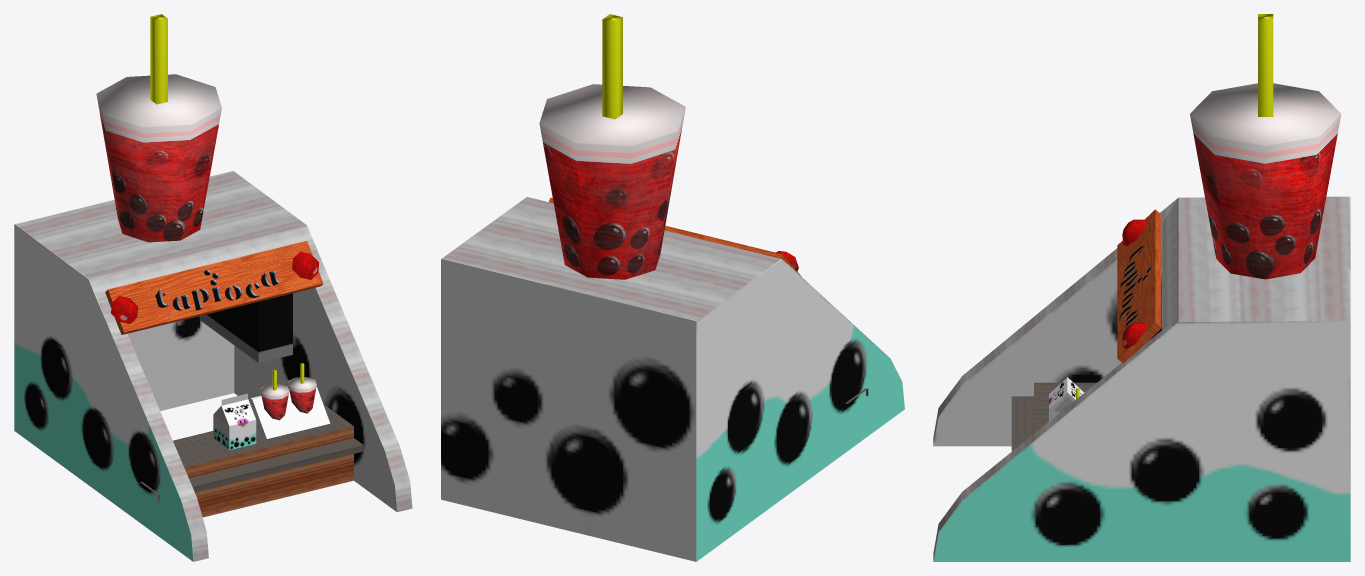
Rendered from mini-tapioka.fbx.
The picture shows the model from 3 angles, left to right: view 1: azimuth 30°, elevation 25°; view 2: azimuth 150°, elevation 25°; view 3: azimuth 270°, elevation 25°; orthographic projection. The views are drawn at different scales.
Visible parts, largest first — view 1: polySurface91; view 2: polySurface91; view 3: polySurface91.
Boxes of the visible parts, bbox=[...] form: polySurface91: bbox=[14, 14, 412, 561]; polySurface91: bbox=[441, 14, 904, 561]; polySurface91: bbox=[933, 14, 1350, 561].
Size of the model in its own units: 3.68 by 6.57 by 5.16.
